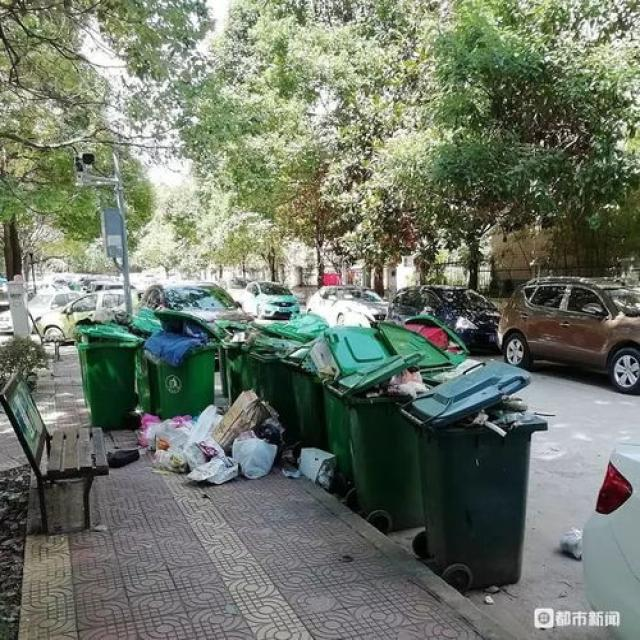garbage: (106, 386, 334, 486)
overflow: (404, 360, 546, 588), (332, 352, 424, 530), (141, 308, 223, 418), (247, 334, 321, 440), (74, 321, 141, 427)
